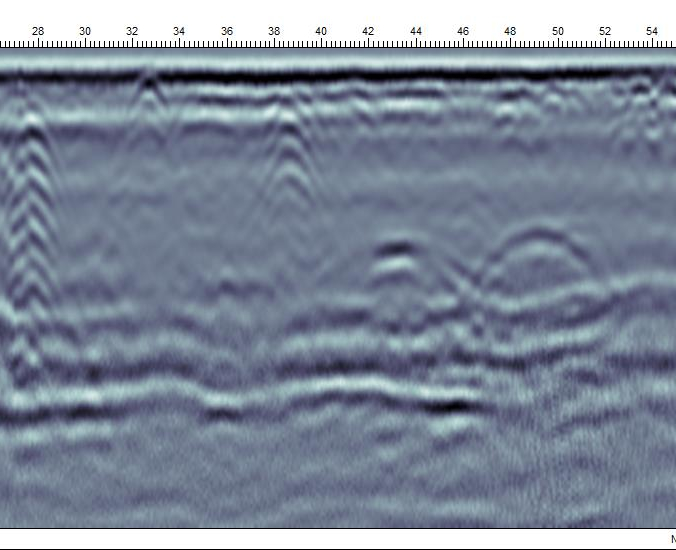hyperbola: (462, 218, 614, 306)
